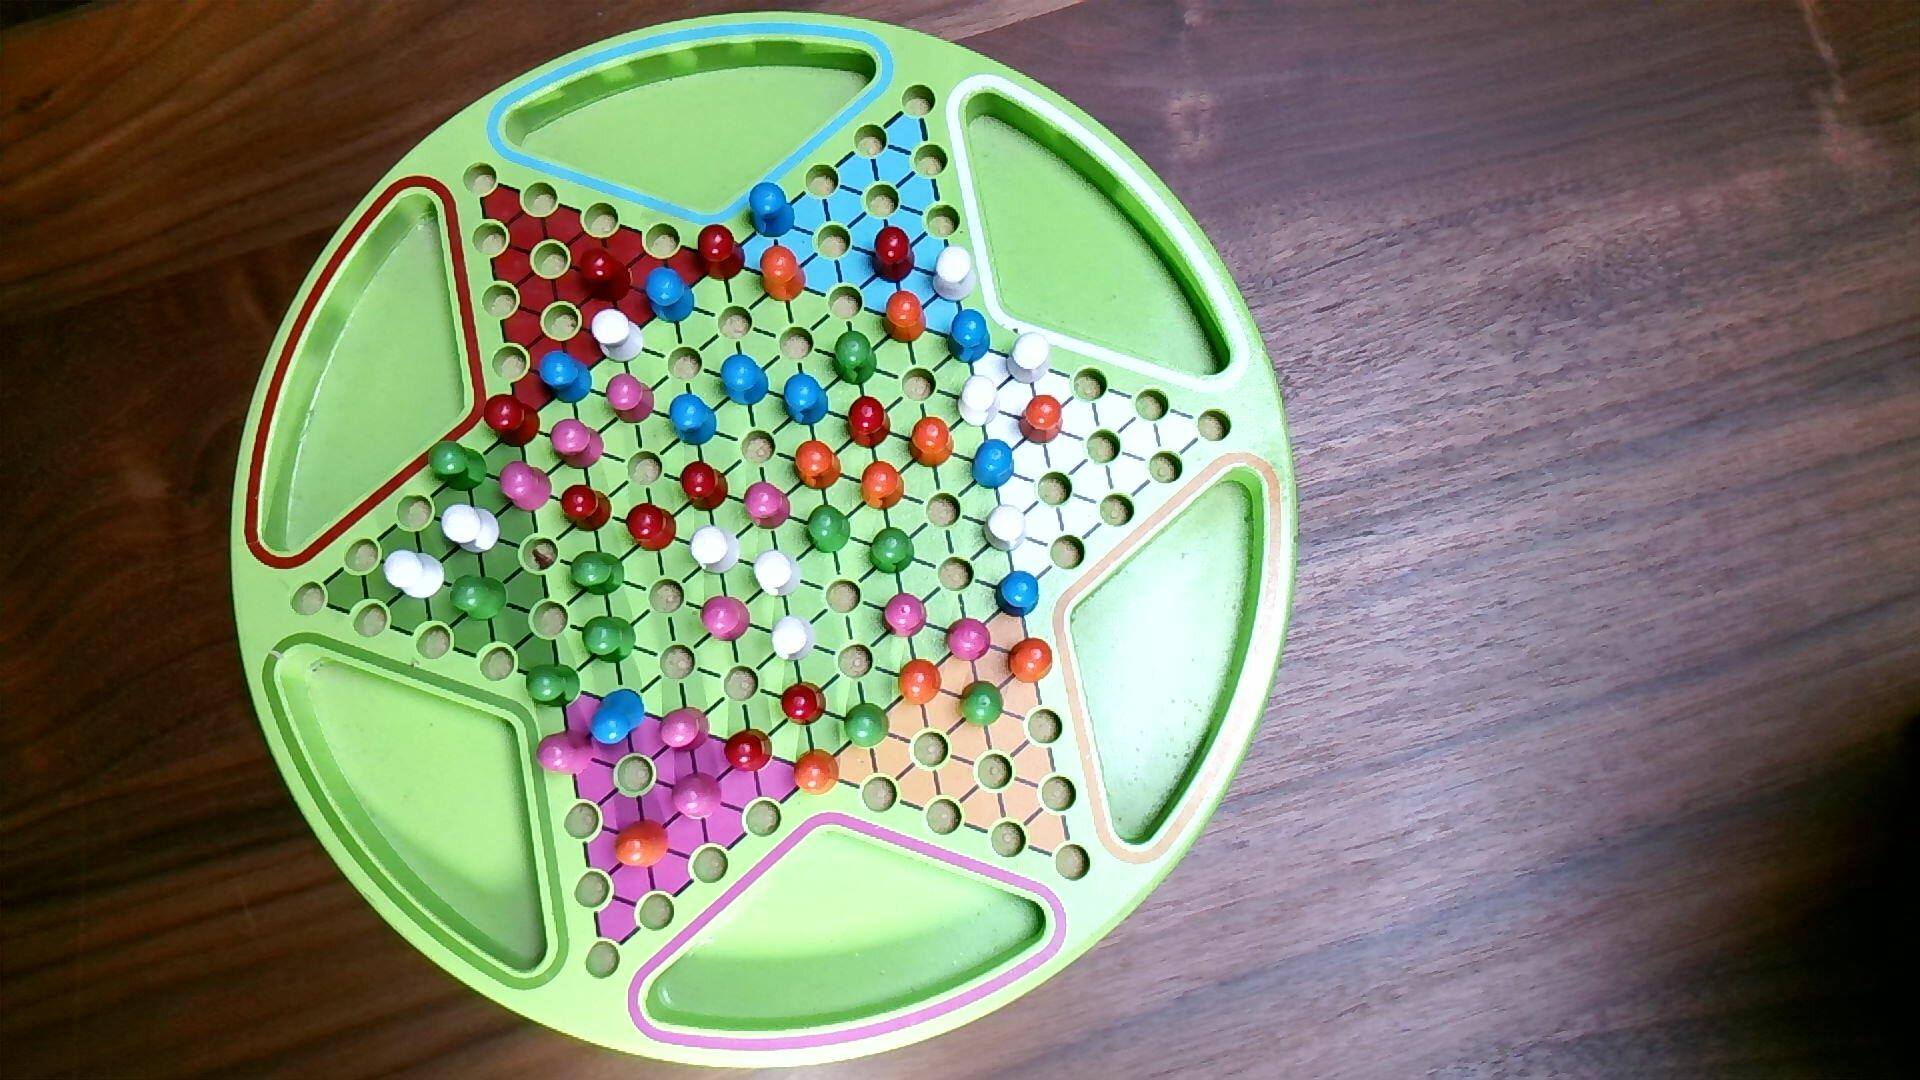B: (589, 688, 647, 746), (538, 348, 595, 406), (645, 265, 698, 324), (748, 181, 798, 240), (717, 353, 771, 407), (669, 393, 719, 448), (782, 372, 831, 429), (945, 309, 993, 365), (971, 438, 1017, 492), (993, 570, 1042, 620)
G: (426, 440, 488, 493), (448, 574, 510, 624), (582, 615, 638, 666), (832, 328, 880, 388), (525, 662, 583, 709), (570, 550, 626, 597), (804, 502, 853, 556), (868, 526, 916, 578), (959, 680, 1006, 731), (844, 702, 891, 750)
O: (613, 818, 673, 870), (760, 244, 808, 305), (793, 436, 843, 493), (906, 415, 956, 471), (881, 289, 928, 347), (1018, 393, 1065, 448), (791, 746, 843, 796), (860, 459, 907, 513), (1007, 636, 1056, 687), (898, 658, 945, 708)
R: (578, 247, 634, 305), (695, 222, 748, 284), (483, 394, 542, 448), (870, 224, 916, 285), (560, 483, 615, 534), (679, 459, 731, 513), (845, 394, 893, 452), (626, 502, 679, 554), (725, 728, 774, 775), (781, 680, 828, 728)
R2: (550, 417, 607, 472), (498, 460, 554, 514), (535, 729, 597, 777), (671, 770, 725, 824), (658, 705, 712, 756), (742, 479, 793, 531), (700, 595, 752, 645), (607, 373, 657, 425), (880, 591, 928, 640), (943, 617, 993, 663)
W: (382, 550, 447, 603), (440, 502, 502, 555), (591, 309, 646, 365), (688, 524, 742, 578), (932, 244, 978, 305), (1006, 331, 1054, 386), (752, 549, 803, 599), (957, 373, 1002, 429), (770, 613, 818, 665), (982, 502, 1029, 555)
